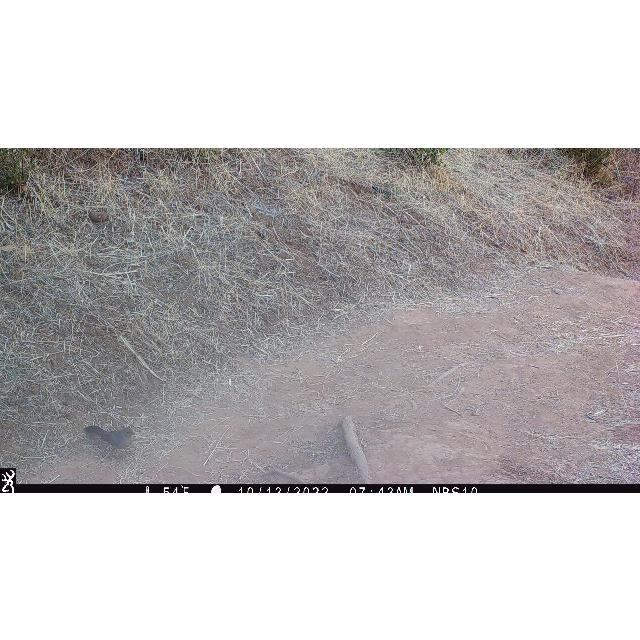animals: (84, 422, 134, 458)
